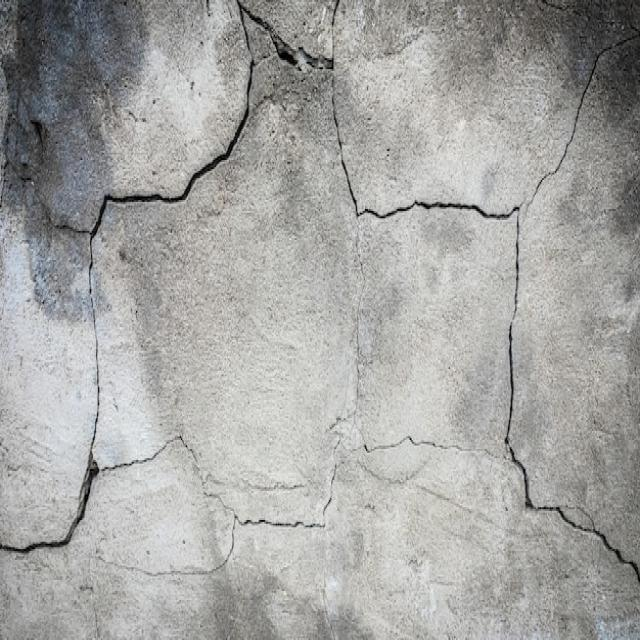Crack: (0, 0, 253, 553), (329, 0, 636, 222), (502, 211, 638, 574), (92, 431, 355, 542), (97, 518, 234, 573), (236, 0, 332, 78), (358, 409, 503, 460)
